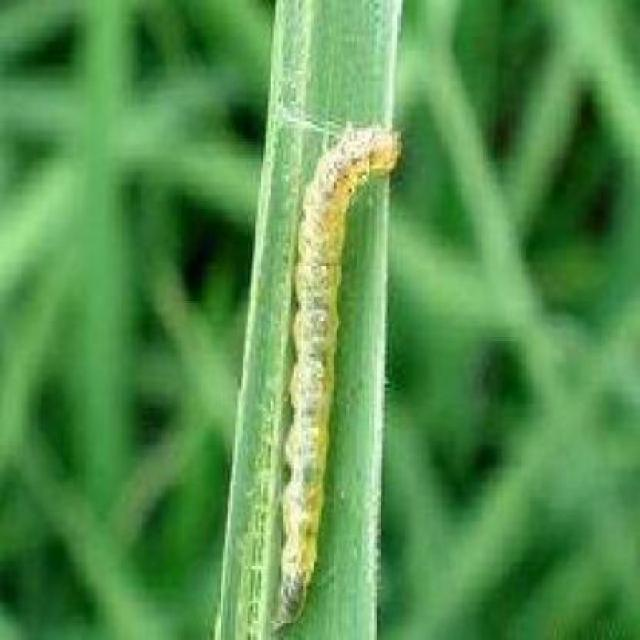leaf-folder: (269, 102, 402, 596)
